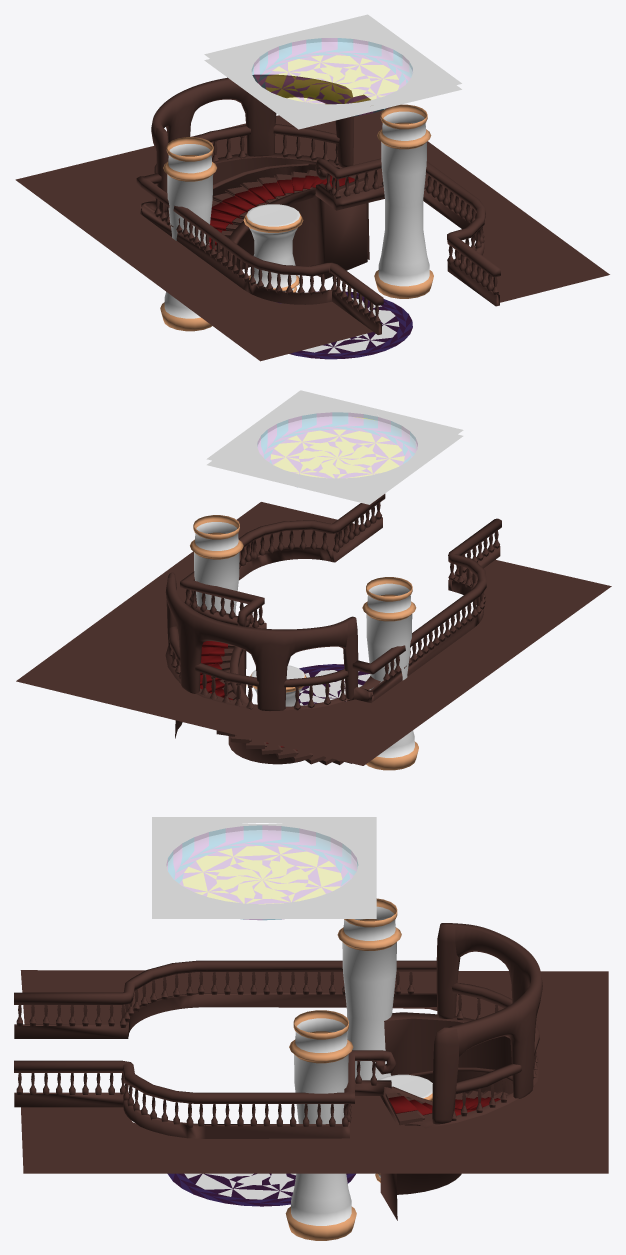
The model's file is hall_export.fbx.
3 renders of one model, top to bottom at view 1: azimuth 30°, elevation 25°; view 2: azimuth 150°, elevation 25°; view 3: azimuth 270°, elevation 25°, orthographic. The views are drawn at different scales.
Visible parts, largest first — view 1: pisodos.004, pisodos.001, pisodos.033, Cylinder.004, Plane.002, pisodos.011, pisodos.045, Plane.001, pisodos.008, pisodos.044, Cylinder, Plane (+3 smaller); view 2: pisodos.004, pisodos.011, Cylinder.004, pisodos.045, pisodos.033, Plane.001, pisodos.008, pisodos.001, Plane, Plane.002, ESCALERAS.003, Cube.083 (+2 smaller); view 3: pisodos.004, pisodos.045, pisodos.033, Cylinder.004, pisodos.011, Plane.001, pisodos.001, Plane.002, pisodos.008, Cylinder, Plane, Cube.083 (+4 smaller).
Part boxes in pixels (x1,y1,x2,y2): pisodos.004: (15, 94, 609, 361); pisodos.001: (374, 104, 433, 298); pisodos.033: (136, 173, 383, 334); Cylinder.004: (252, 38, 412, 116); Plane.002: (155, 153, 369, 279); pisodos.011: (151, 74, 353, 212); pisodos.045: (315, 158, 500, 306); Plane.001: (204, 14, 461, 123); pisodos.008: (160, 137, 216, 331); pisodos.044: (243, 204, 303, 292); Cylinder: (277, 291, 412, 359); Plane: (204, 36, 461, 129); pisodos.004: (16, 502, 611, 765); pisodos.011: (165, 572, 358, 710); Cylinder.004: (257, 412, 417, 477); pisodos.045: (180, 494, 385, 628); pisodos.033: (352, 518, 501, 702); Plane.001: (206, 390, 463, 498); pisodos.008: (362, 577, 418, 770); pisodos.001: (190, 515, 246, 686); Plane: (207, 410, 463, 504); Plane.002: (165, 645, 380, 764); ESCALERAS.003: (180, 644, 351, 765); Cube.083: (169, 625, 348, 687); pisodos.004: (20, 970, 608, 1173); pisodos.045: (14, 1050, 396, 1138); pisodos.033: (14, 960, 436, 1038); Cylinder.004: (167, 825, 357, 920); pisodos.011: (432, 923, 542, 1124); Plane.001: (152, 817, 376, 911); pisodos.001: (285, 1010, 356, 1240); Plane.002: (380, 1012, 539, 1220); pisodos.008: (337, 898, 401, 1080); Cylinder: (167, 1173, 355, 1206); Plane: (152, 824, 376, 918); Cube.083: (437, 983, 539, 1098).
Bounding box in the file's own units: 2855 × 2042 × 3541.
